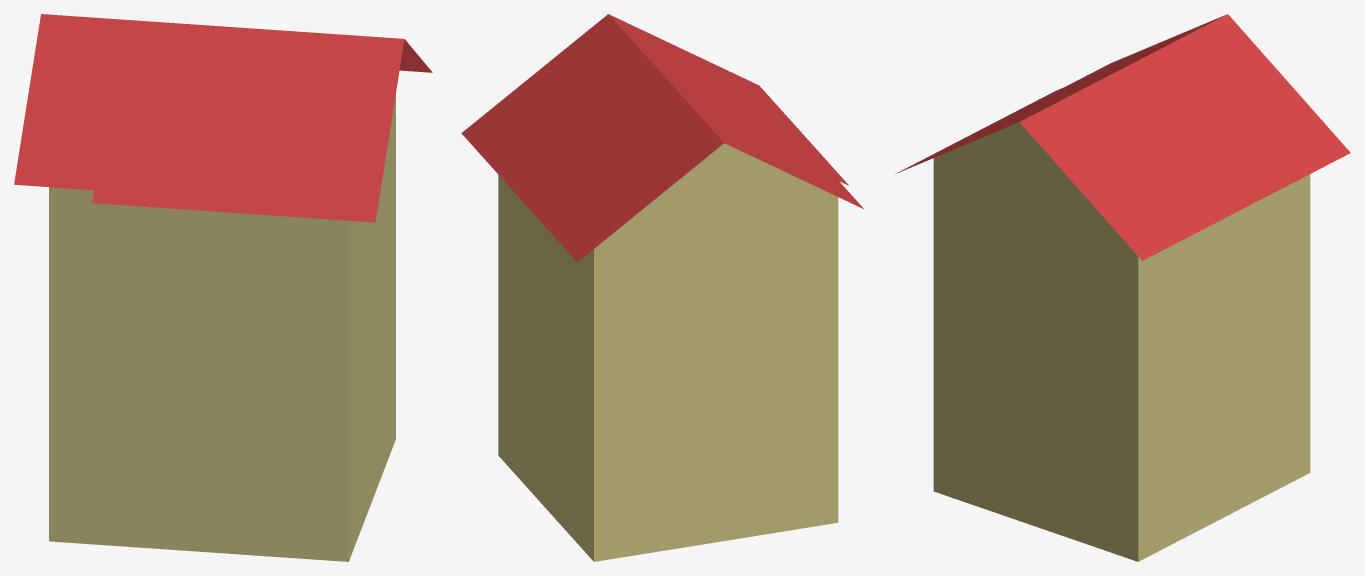
3 renders of one model, left to right at view 1: azimuth 30°, elevation 25°; view 2: azimuth 150°, elevation 25°; view 3: azimuth 270°, elevation 25°, orthographic. The views are drawn at different scales.
Size of the model in its own units: 7.82 by 7.92 by 7.92.
